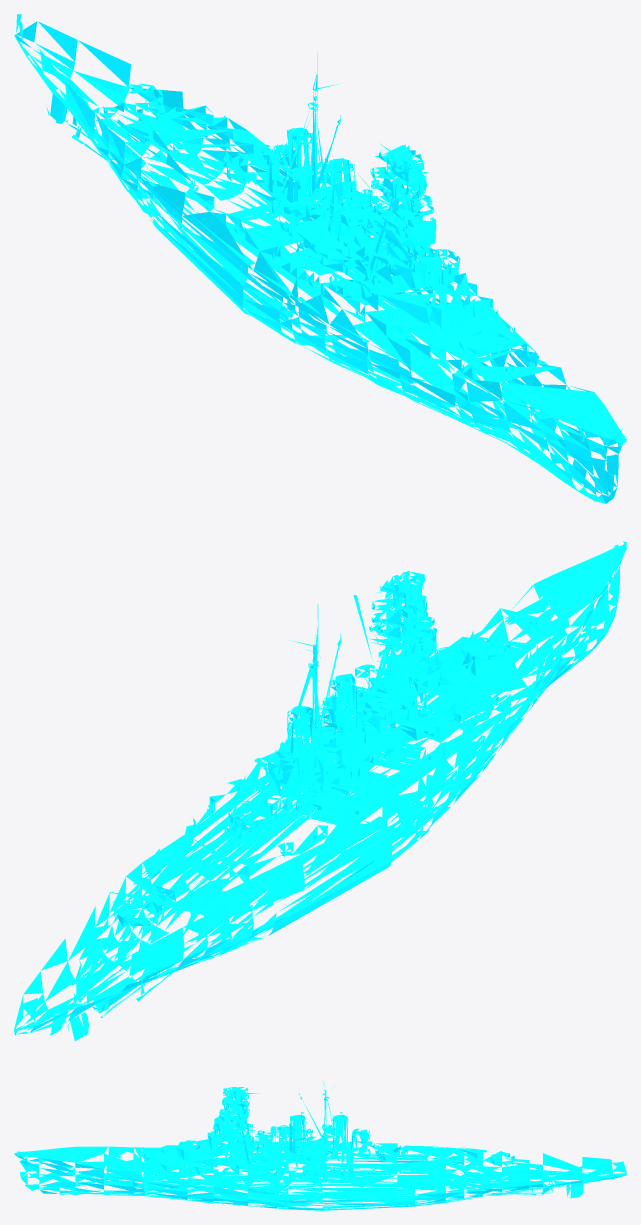
The model's file is Haruna.glb.
The picture shows the model from 3 angles, top to bottom: view 1: azimuth 30°, elevation 25°; view 2: azimuth 150°, elevation 25°; view 3: azimuth 270°, elevation 25°; orthographic projection. The views are drawn at different scales.
Size of the model in its own units: 2.07 by 3.33 by 14.75.
